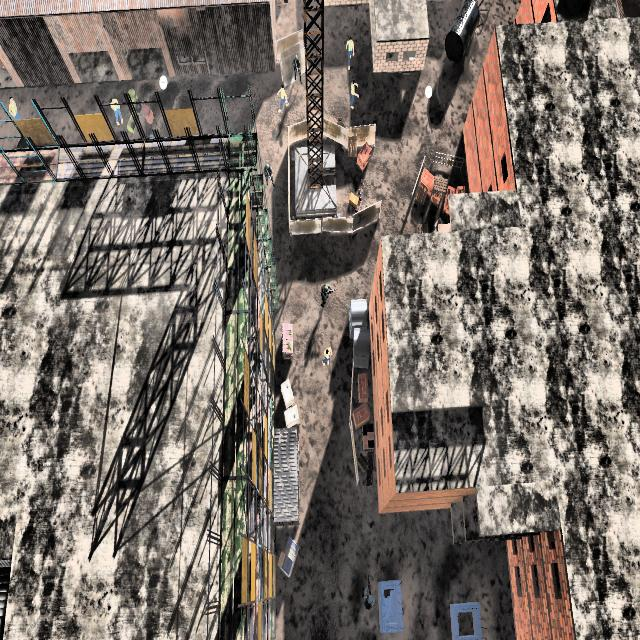bad: (358, 576, 381, 625), (261, 157, 281, 194), (316, 273, 335, 310), (288, 50, 304, 85)
good: (105, 91, 123, 133), (338, 33, 358, 70), (343, 75, 363, 112), (0, 94, 21, 128), (276, 80, 291, 120), (320, 346, 336, 382)
